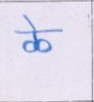e_matra: (23, 15, 38, 30)
